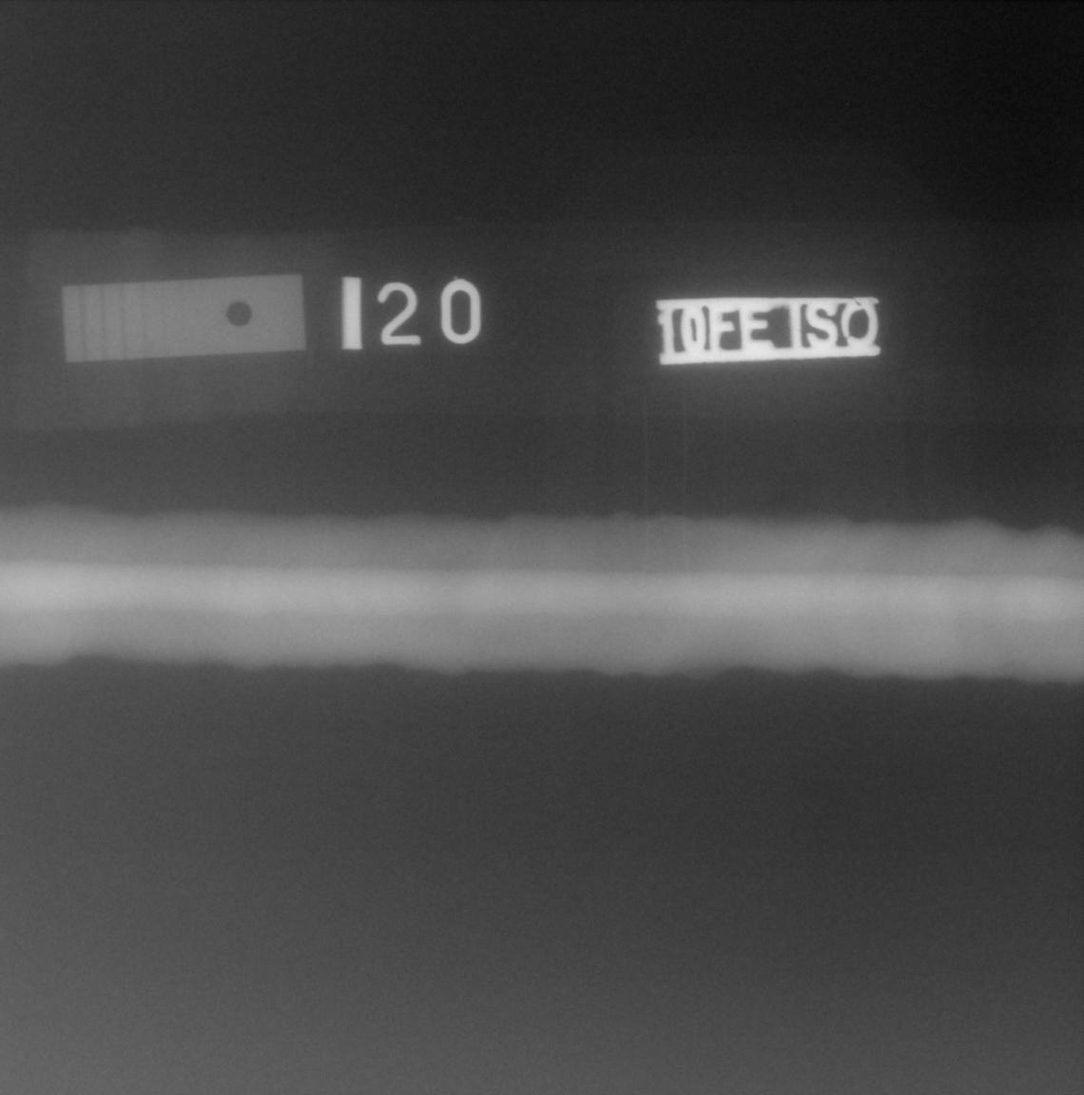Reference Standard 1: (61, 274, 306, 362)
